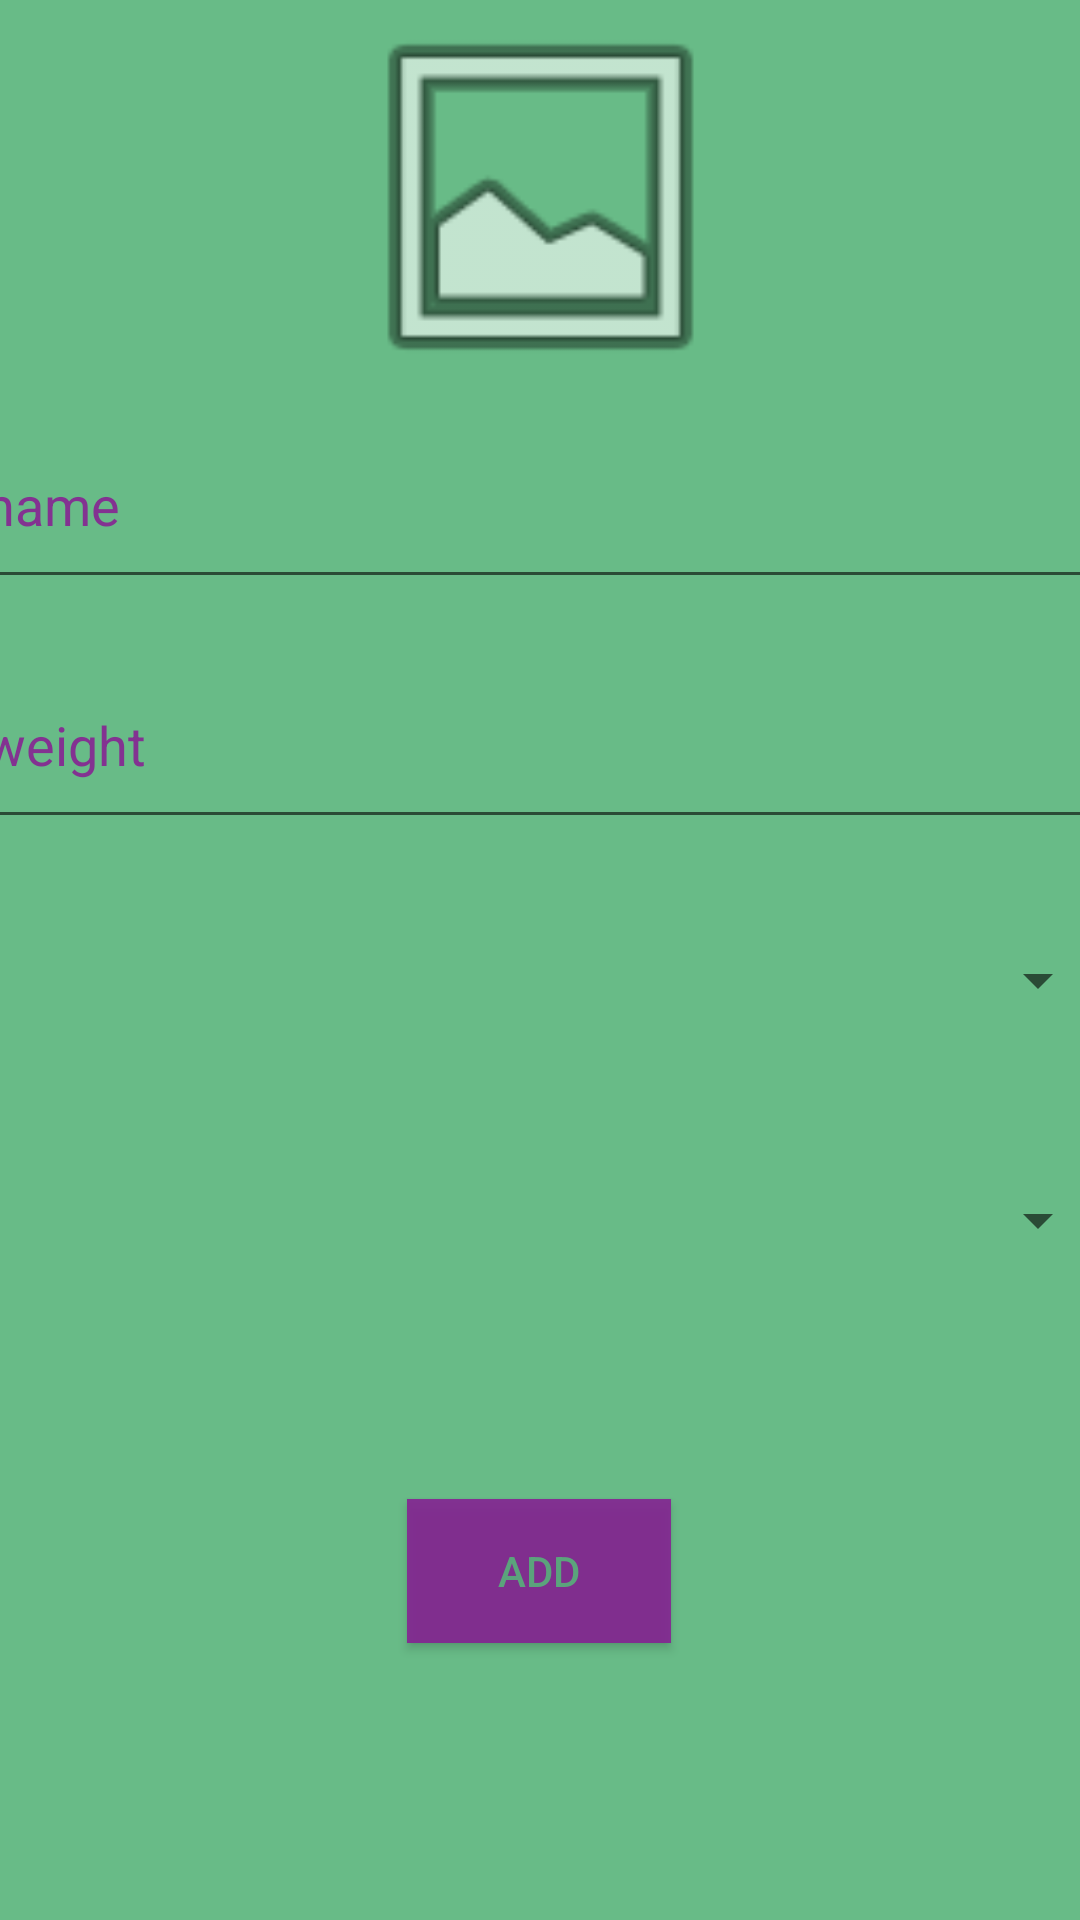

Icon click points for this 1080×1920 phone screenshot, format point (x, y):
gallery: point (540, 197)
